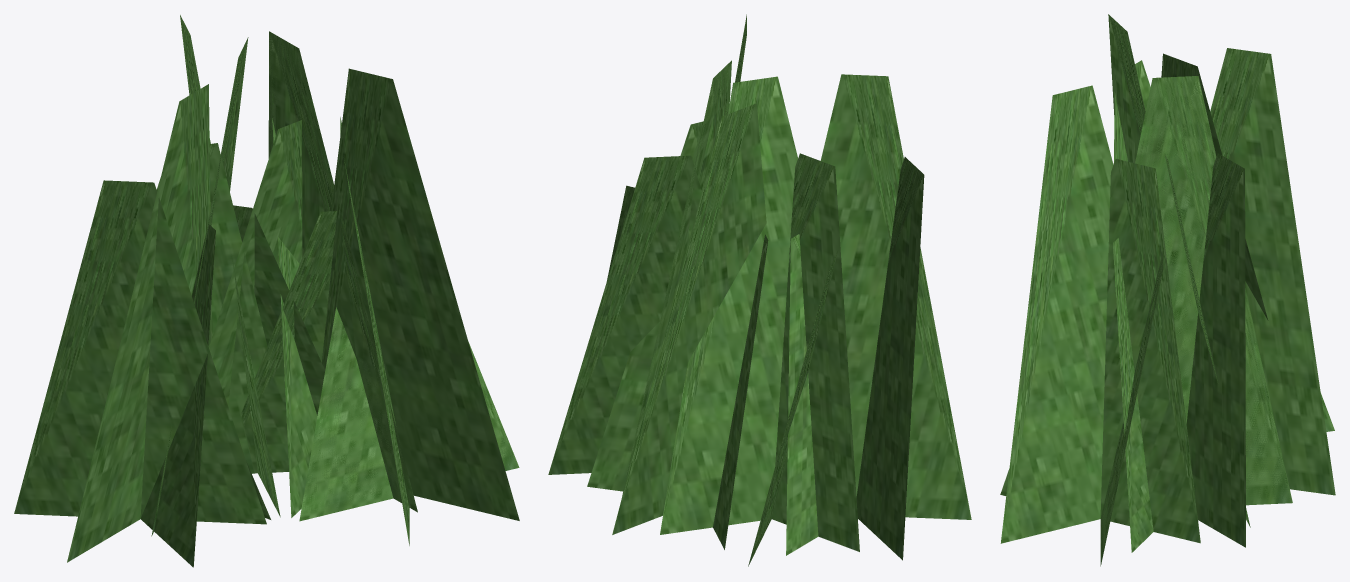
The model's file is grass-cream.glb.
The picture shows the model from 3 angles, left to right: view 1: azimuth 30°, elevation 25°; view 2: azimuth 150°, elevation 25°; view 3: azimuth 270°, elevation 25°; orthographic projection. The views are drawn at different scales.
Parts seen in each view (by area): view 1: grass-cream; view 2: grass-cream; view 3: grass-cream.
Boxes of the visible parts, <box> form: grass-cream: <box>14,15,519,567</box>; grass-cream: <box>548,14,971,566</box>; grass-cream: <box>1000,14,1335,566</box>.
Size of the model in its own units: 0.8734 by 0.85 by 0.6383.
1 material, 1 textured.
